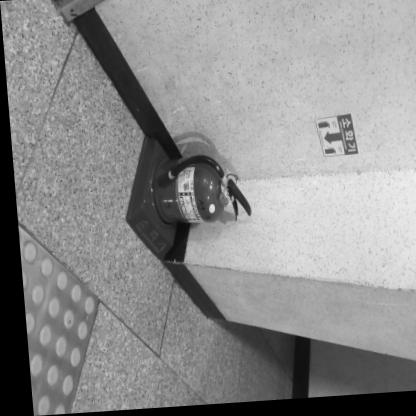FE: (117, 134, 254, 265)
